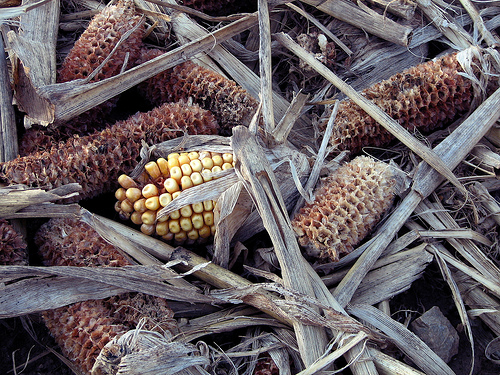corn: (104, 137, 311, 249)
